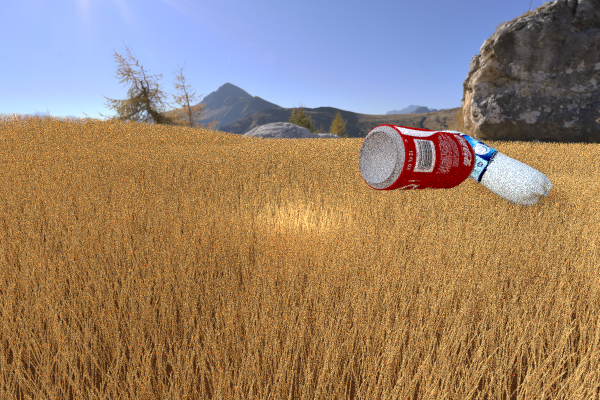Plastic Bottle: (420, 127, 552, 207), (358, 124, 476, 190)
